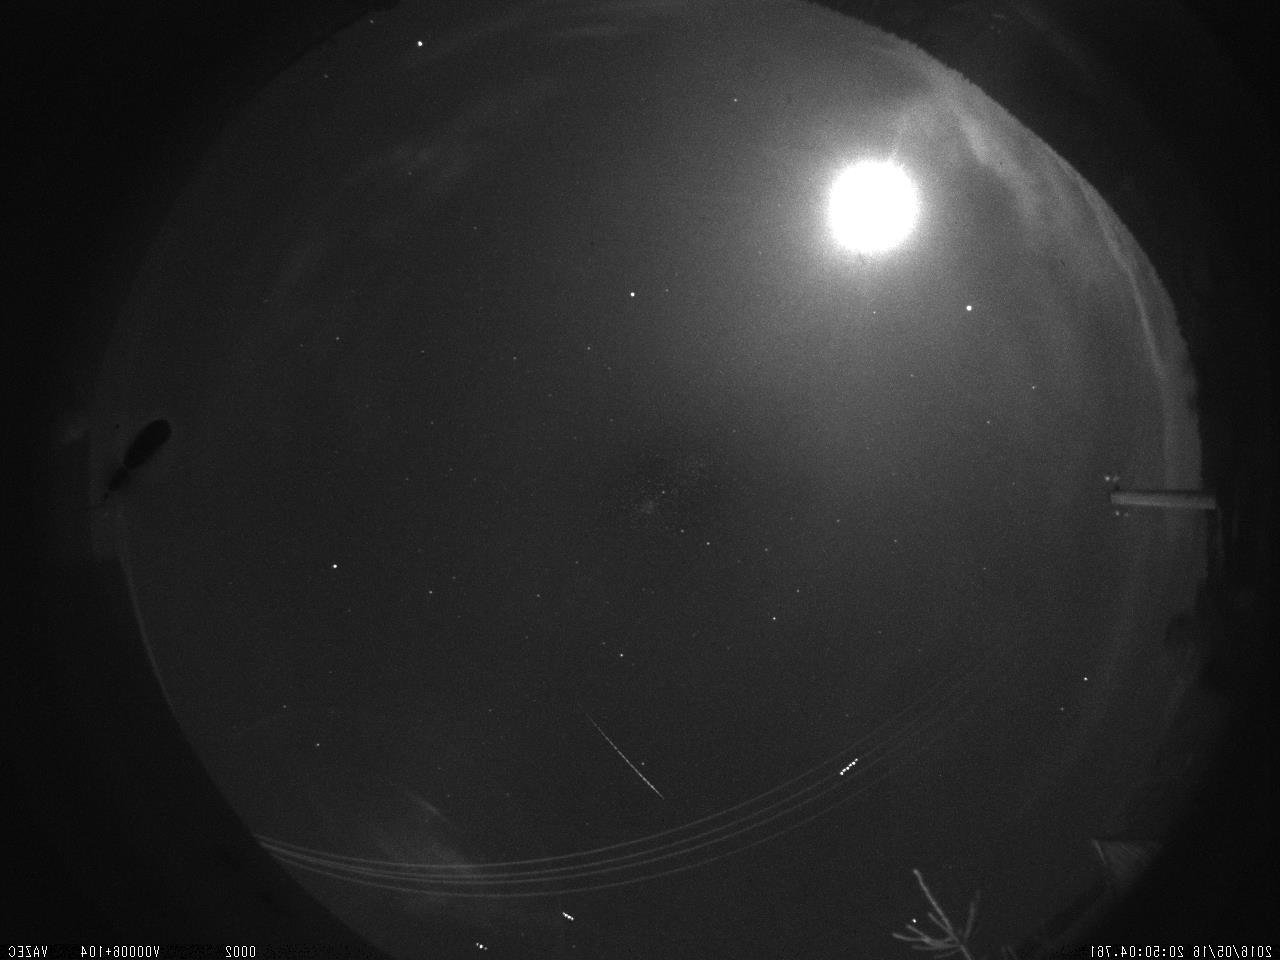meteor: (556, 704, 679, 810)
